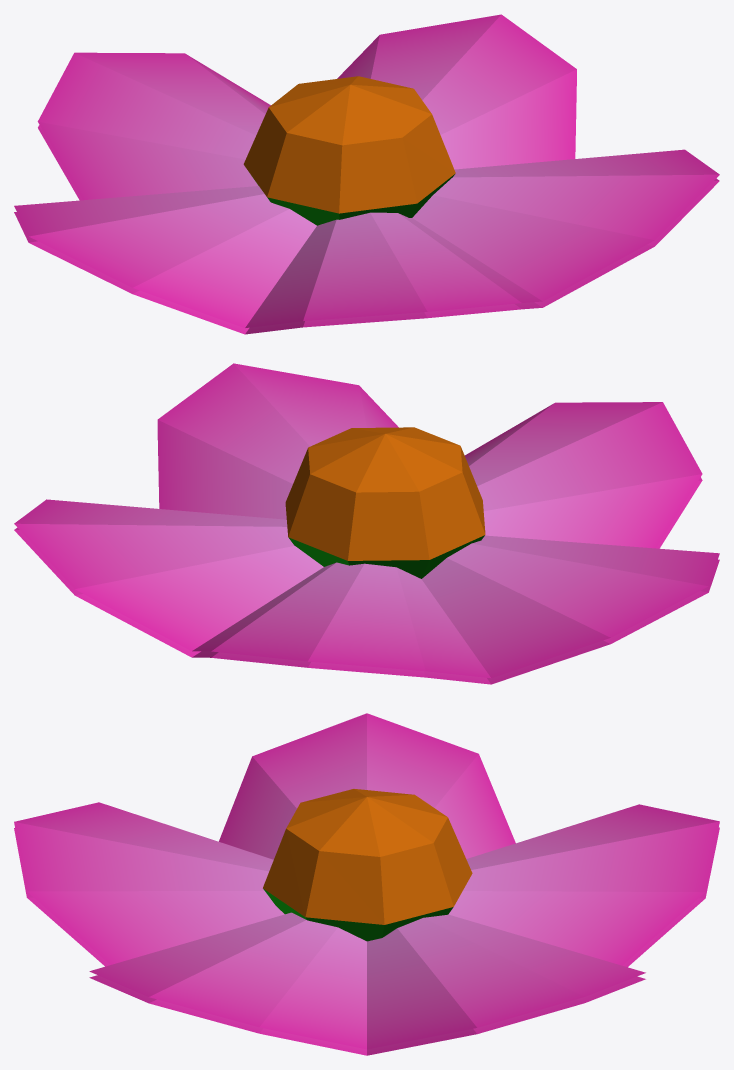
File: flower_red.dae
3 views of the same model, one above another, from view 1: azimuth 30°, elevation 25°; view 2: azimuth 150°, elevation 25°; view 3: azimuth 270°, elevation 25° (orthographic).
Visible parts, largest first — view 1: m0; view 2: m0; view 3: m0.
Boxes of the visible parts, x1,y1,x2,y2 form: m0: (14,14,719,334); m0: (14,363,719,684); m0: (14,713,719,1055).
Size of the model in its own units: 8.31 by 3.05 by 8.43.
